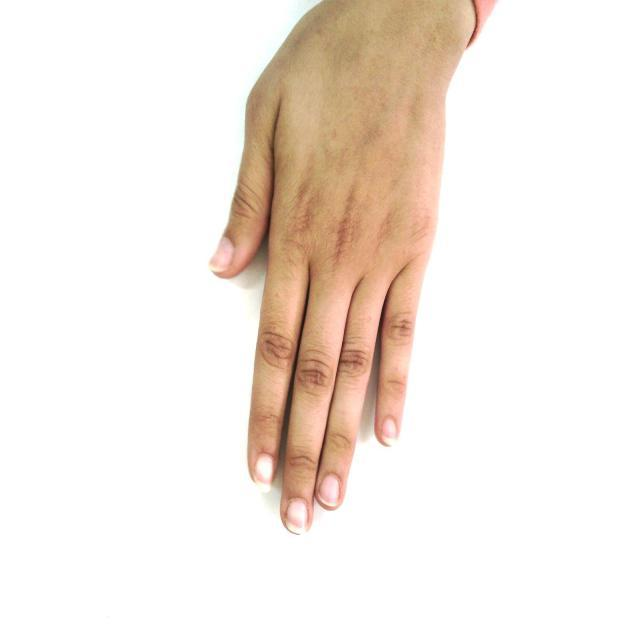Fingernail: (286, 500, 309, 534), (210, 238, 233, 269), (320, 475, 340, 506), (256, 455, 273, 486), (382, 418, 396, 441)
